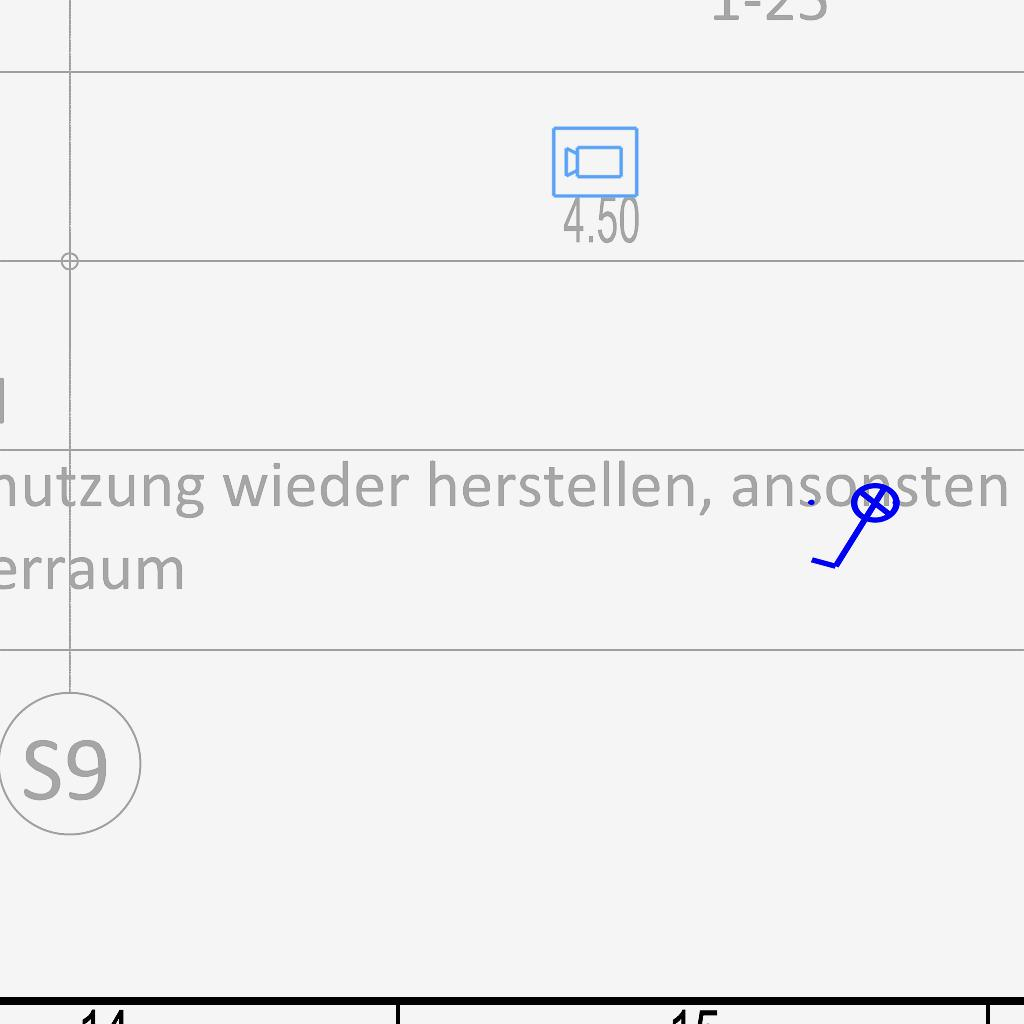Ausschalter_beleuchtet: (802, 481, 914, 577)
KFO_Kamera_mit_Festobjektiv: (550, 123, 641, 200)
